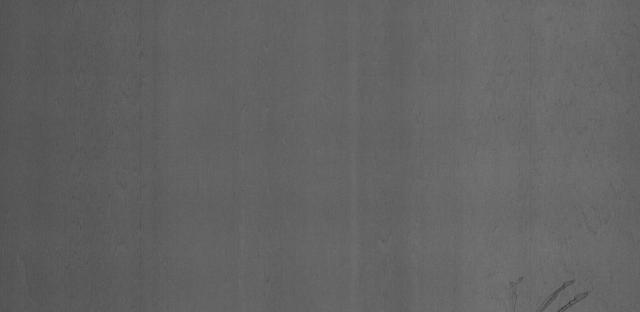water_spot: (505, 262, 596, 312)
